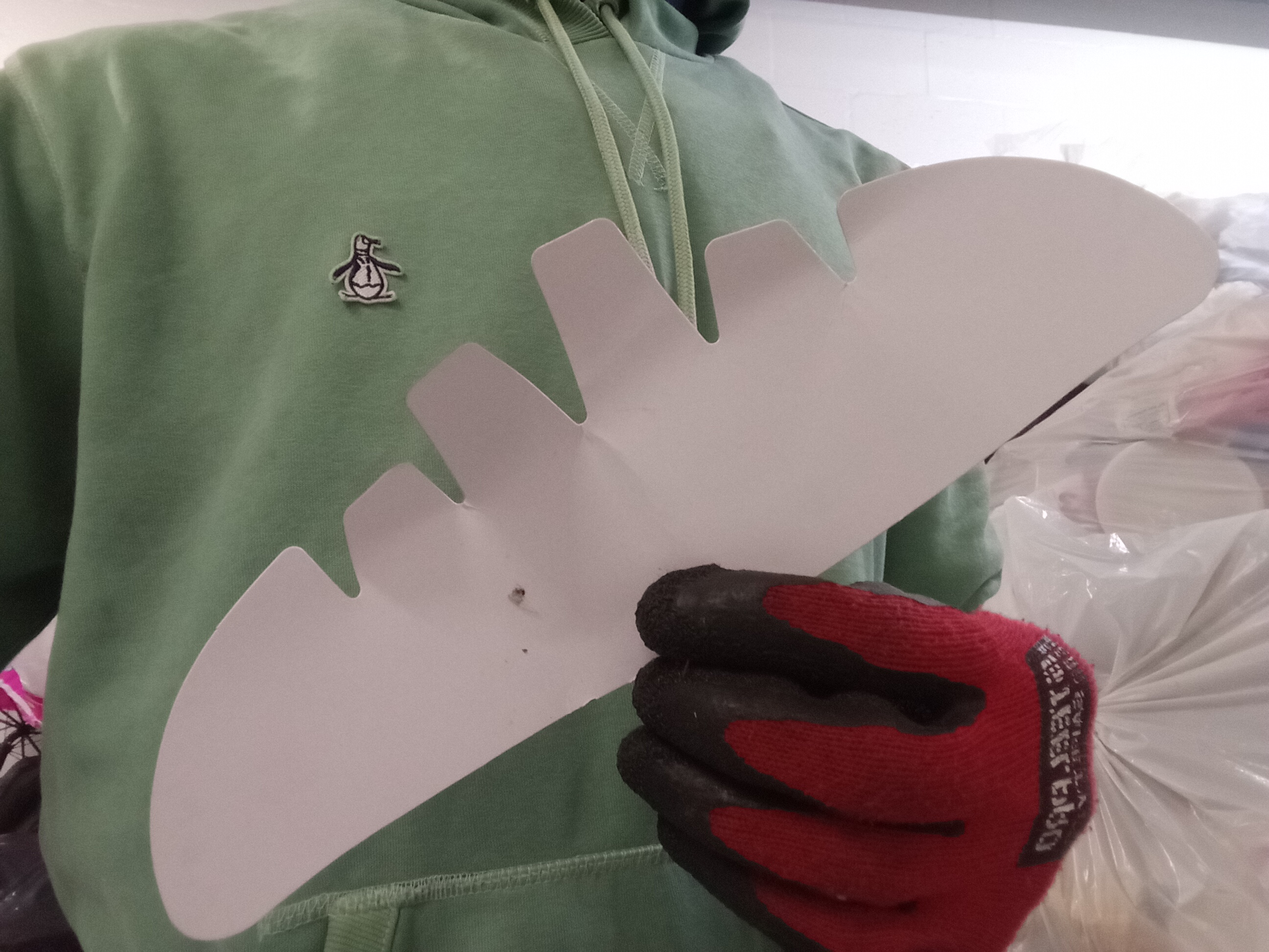Carton: (150, 155, 1219, 939)
